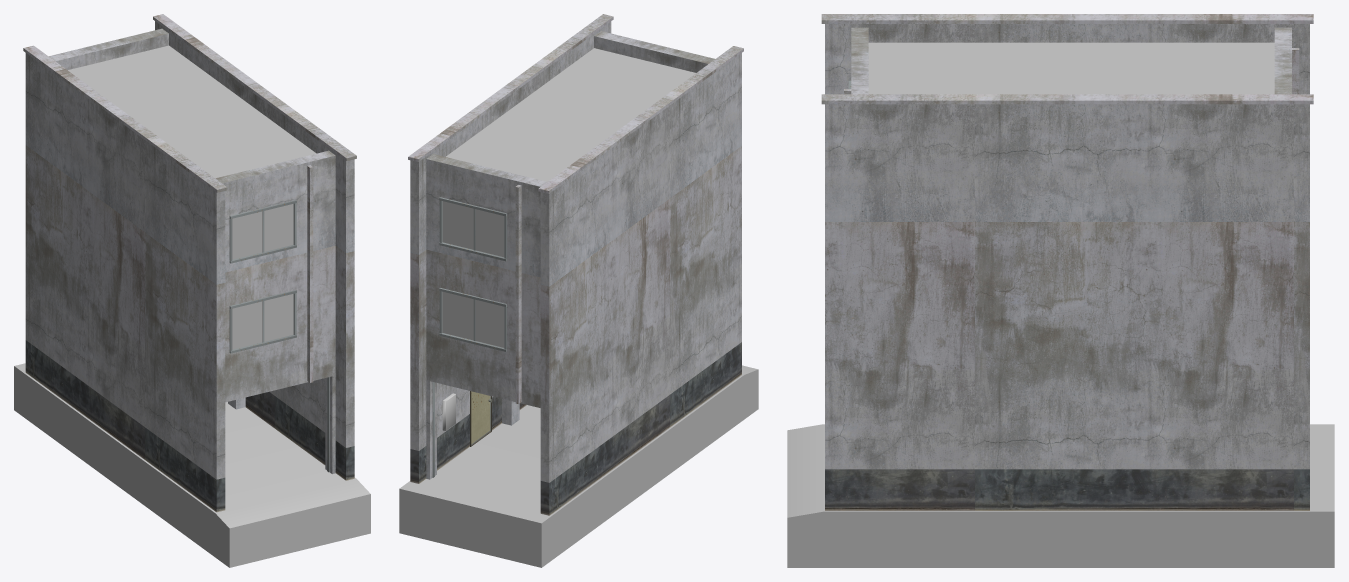
The model's file is mallbil_s_b1b.fbx.
3 views of the same model, side by side, from view 1: azimuth 30°, elevation 25°; view 2: azimuth 150°, elevation 25°; view 3: azimuth 270°, elevation 25° (orthographic). The views are drawn at different scales.
Parts seen in each view (by area): view 1: mallbil_s_b1b; view 2: mallbil_s_b1b; view 3: mallbil_s_b1b.
Part boxes in pixels (x1,y1,x2,y2): mallbil_s_b1b: (14, 14, 370, 567); mallbil_s_b1b: (399, 14, 758, 567); mallbil_s_b1b: (787, 14, 1334, 567).
Bounding box in the file's own units: 433 × 1078 × 1144.
